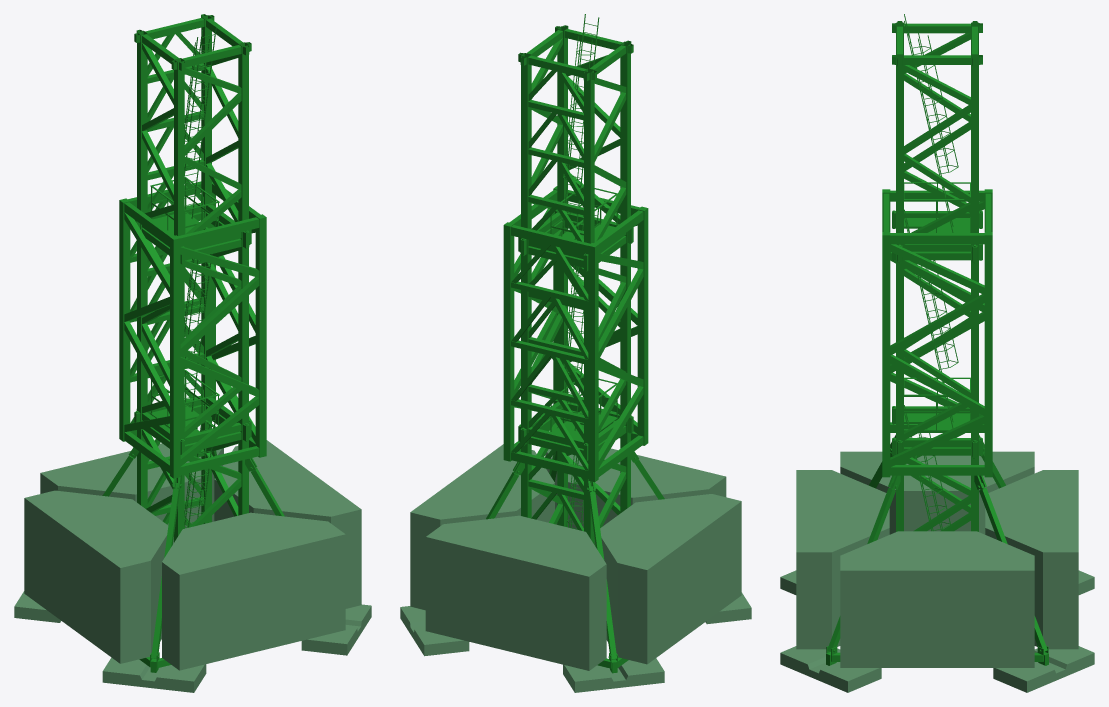
Rendered from towerCrane_base.fbx.
3 renders of one model, left to right at view 1: azimuth 30°, elevation 25°; view 2: azimuth 150°, elevation 25°; view 3: azimuth 270°, elevation 25°, orthographic. The views are drawn at different scales.
Visible parts, largest first — view 1: towerCrane_base; view 2: towerCrane_base; view 3: towerCrane_base.
Part boxes in pixels (x1,y1,x2,y2): towerCrane_base: (14, 14, 371, 692); towerCrane_base: (400, 14, 751, 692); towerCrane_base: (780, 14, 1094, 692).
Size of the model in its own units: 985 by 2133 by 985.
